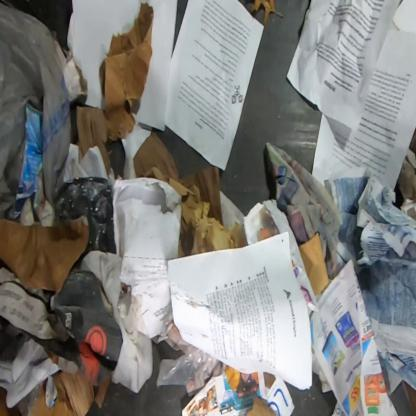cardboard: (133, 129, 223, 259), (99, 1, 155, 144), (0, 216, 89, 292), (29, 369, 111, 416), (76, 105, 112, 175), (297, 230, 330, 298), (244, 394, 278, 416)
rigid_plastic: (54, 176, 117, 260), (17, 381, 43, 416)
soft_plastic: (0, 0, 71, 222), (156, 345, 221, 390)
